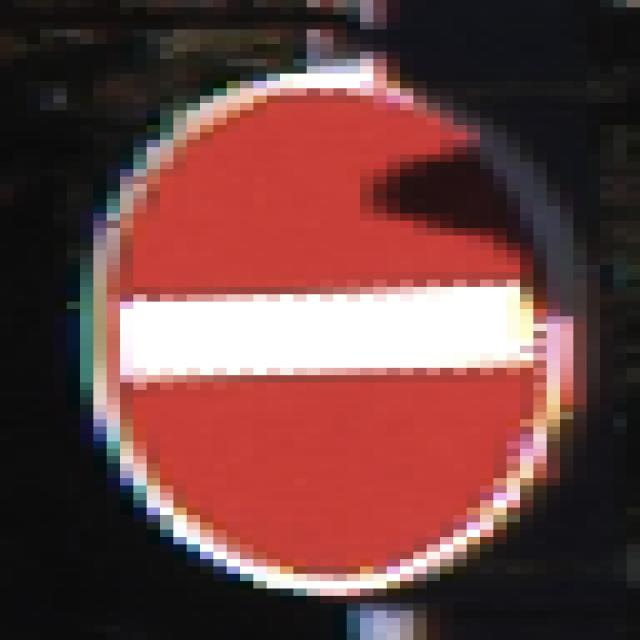No Entry: (81, 60, 574, 589)
